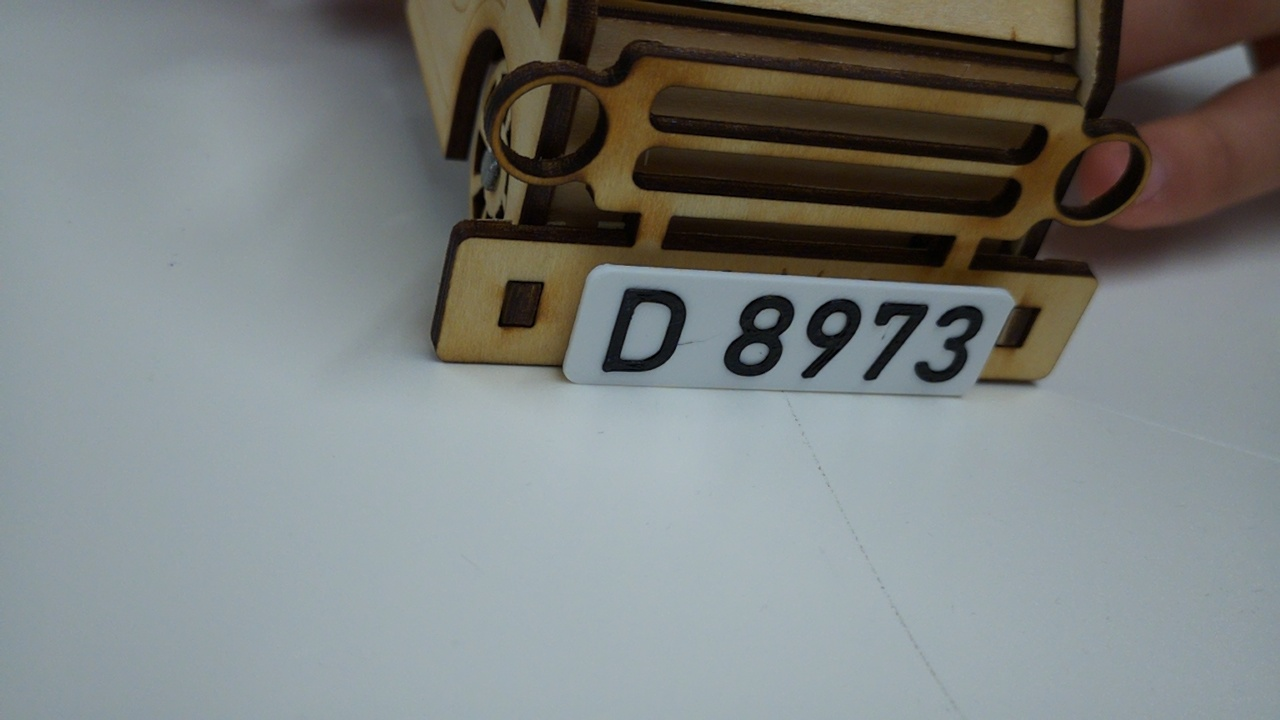license_plate: (560, 260, 1017, 400)
